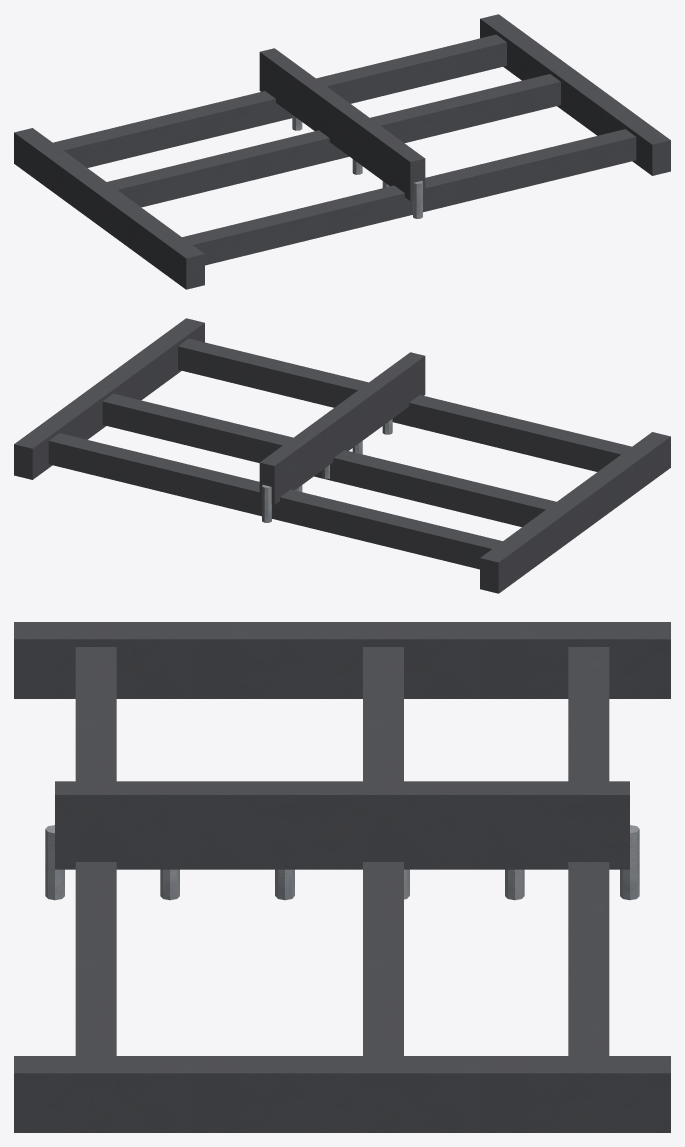
The model's file is bumper_large.gltf.
3 renders of one model, top to bottom at view 1: azimuth 30°, elevation 25°; view 2: azimuth 150°, elevation 25°; view 3: azimuth 270°, elevation 25°, orthographic. The views are drawn at different scales.
Visible parts, largest first — view 1: bumper_large; view 2: bumper_large; view 3: bumper_large.
Boxes of the visible parts, x1,y1,x2,y2 form: bumper_large: (14,14,670,289); bumper_large: (14,318,670,593); bumper_large: (14,622,670,1132).
Bounding box in the file's own units: 1.3 × 0.16 × 0.8.
Materials: 2 (2 with a texture image).
